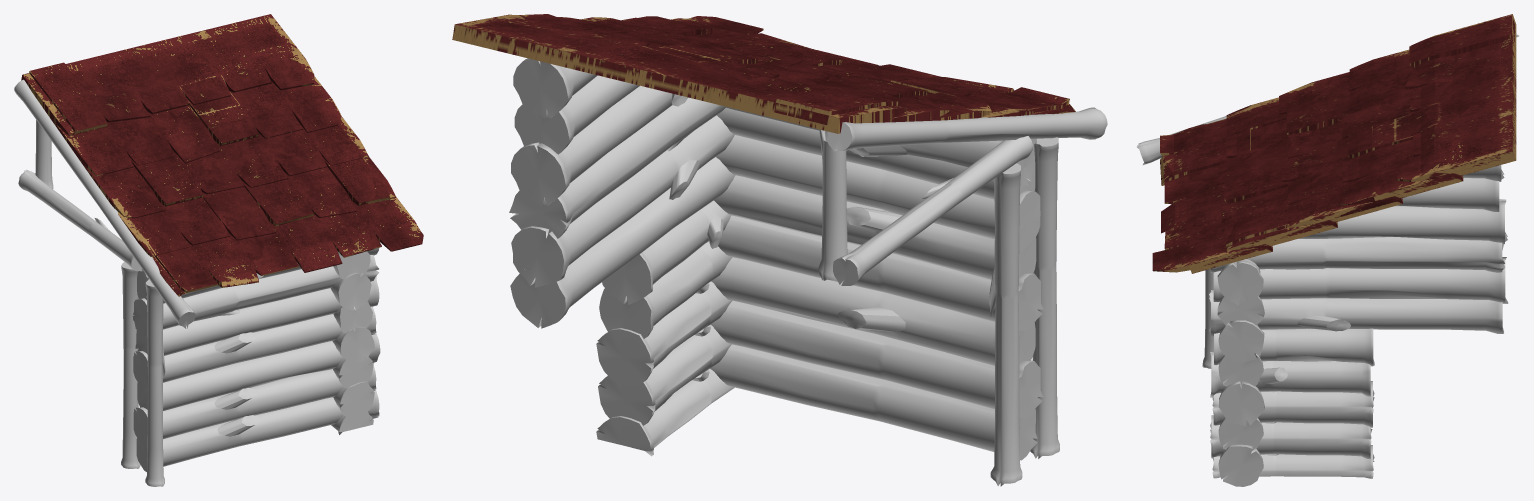
Rendered from logCabin_endWall_L.fbx.
The picture shows the model from 3 angles, left to right: view 1: azimuth 30°, elevation 25°; view 2: azimuth 150°, elevation 25°; view 3: azimuth 270°, elevation 25°; orthographic projection. The views are drawn at different scales.
Visible parts, largest first — view 1: polySurface36, polySurface10; view 2: polySurface10, polySurface36; view 3: polySurface10, polySurface36.
Boxes of the visible parts, x1,y1,x2,y2 form: polySurface36: (21,14,423,296); polySurface10: (14,79,380,486); polySurface10: (509,58,1107,486); polySurface36: (452,14,1075,133); polySurface10: (1137,34,1518,486); polySurface36: (1152,14,1516,273).
Bounding box in the file's own units: 284 × 334 × 327.
